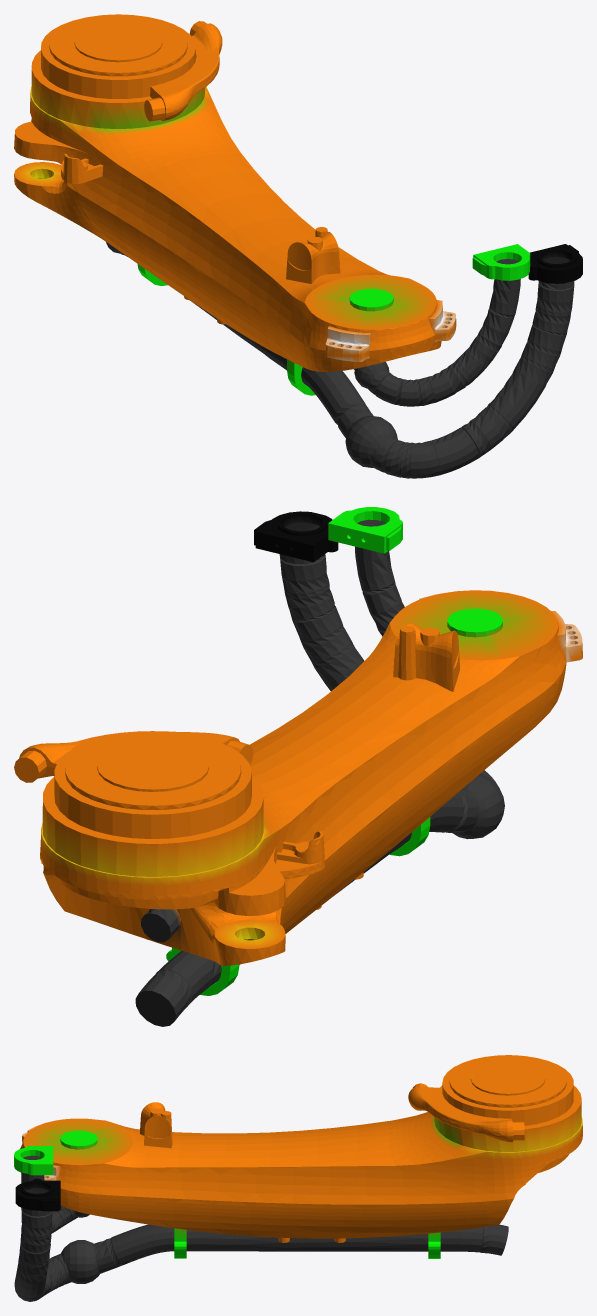
The picture shows the model from 3 angles, top to bottom: view 1: azimuth 30°, elevation 25°; view 2: azimuth 150°, elevation 25°; view 3: azimuth 270°, elevation 25°; orthographic projection. The views are drawn at different scales.
Visible parts, largest first — view 1: node; view 2: node; view 3: node.
Part boxes in pixels (x1,y1,x2,y2): node: (14, 14, 582, 478); node: (14, 507, 582, 1026); node: (14, 1055, 582, 1301).
Bounding box in the file's own units: 29.58 × 23.76 × 60.04.
1 material, 1 textured.
